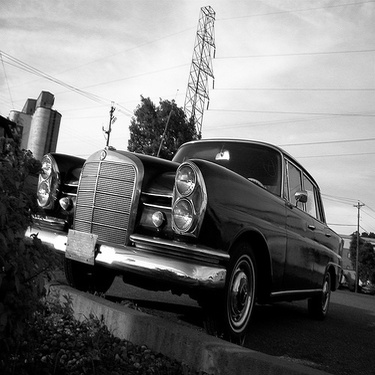car: (14, 120, 353, 343)
